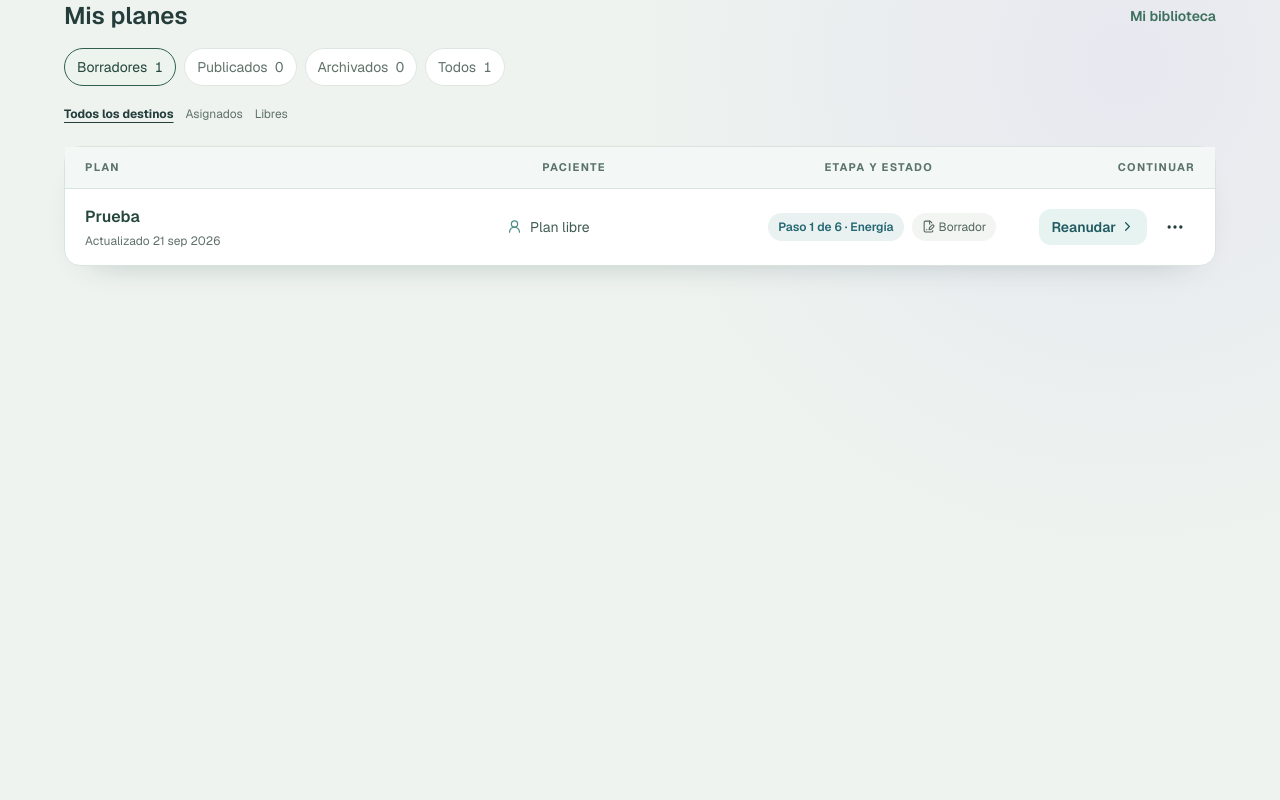
Test case: plan organization › keeps card when server rejects a newly published draft
Click the heading named "Acciones de Prueba".
click(1175, 226)  # box [1165, 216, 1185, 236]
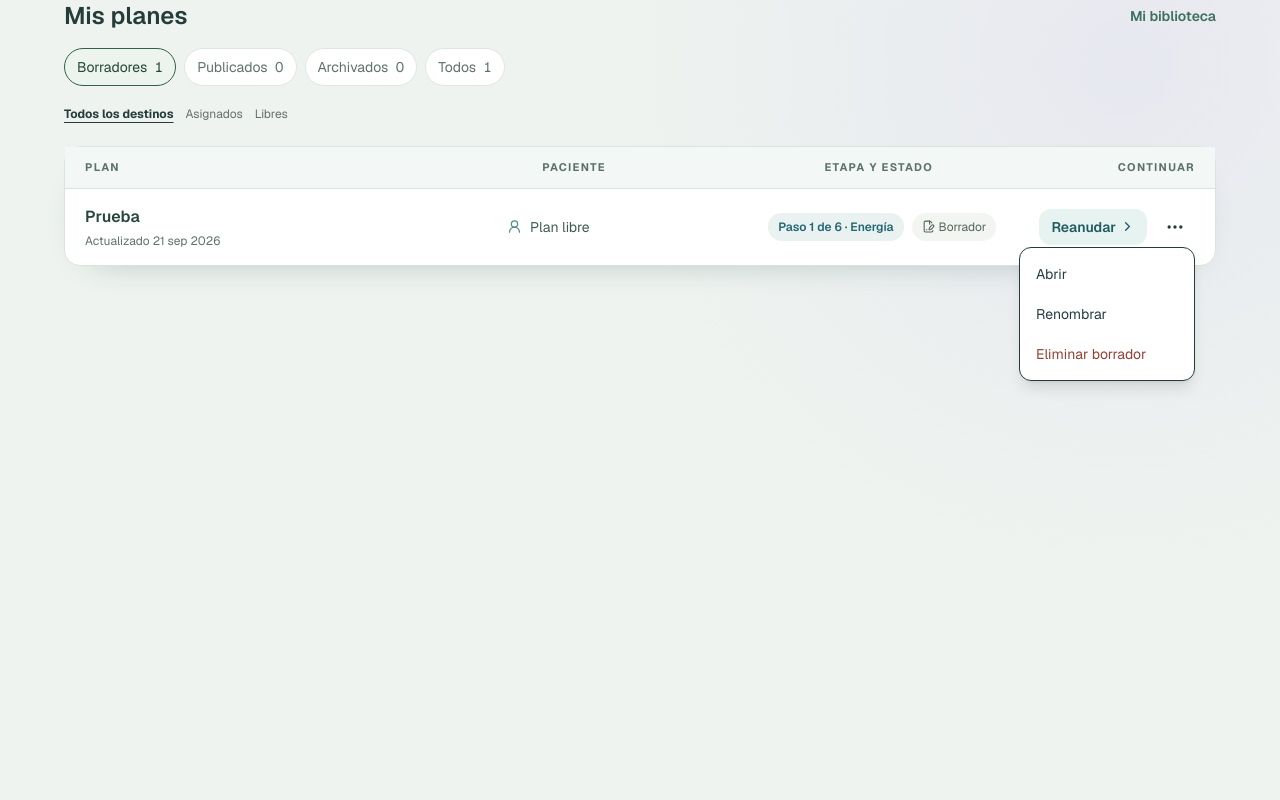
Click the button "Eliminar borrador".
click(1107, 354)  # box [1028, 336, 1186, 372]
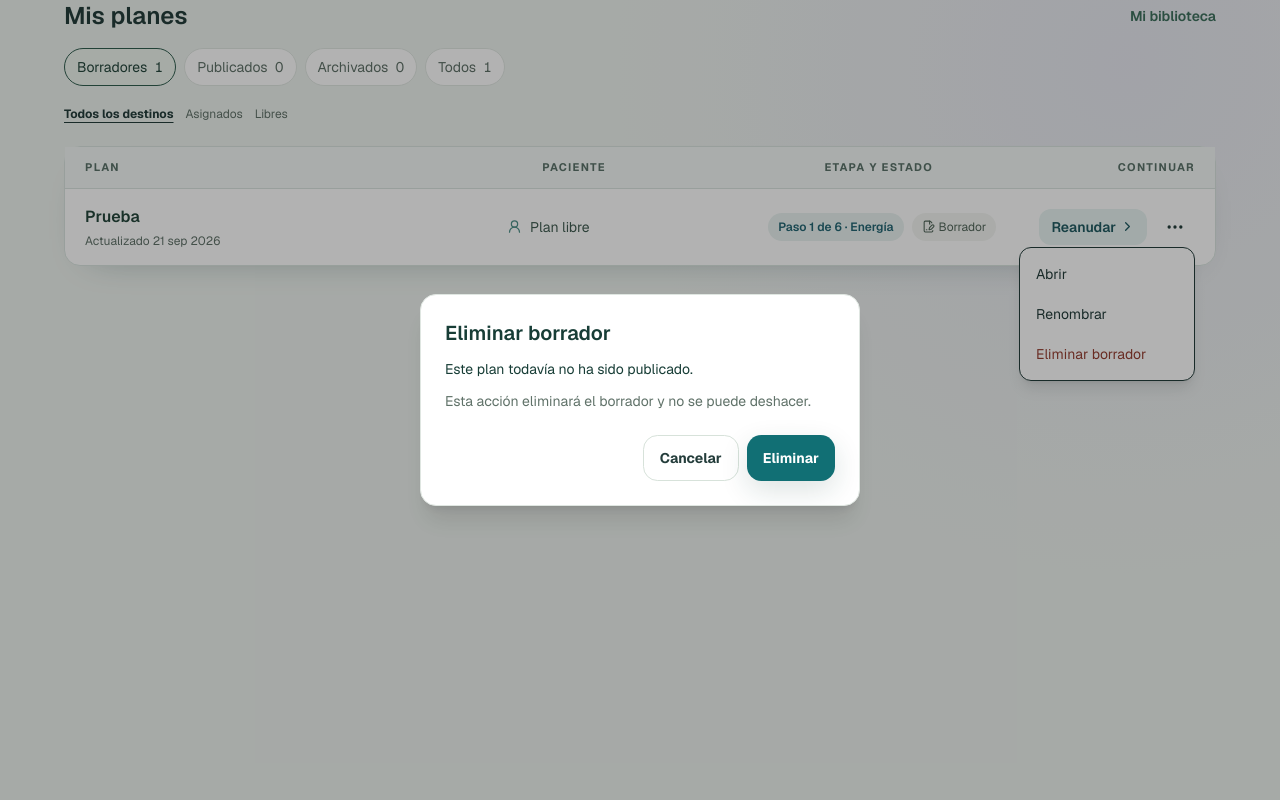
Click the button "Eliminar".
click(791, 458)  # box [747, 435, 835, 481]
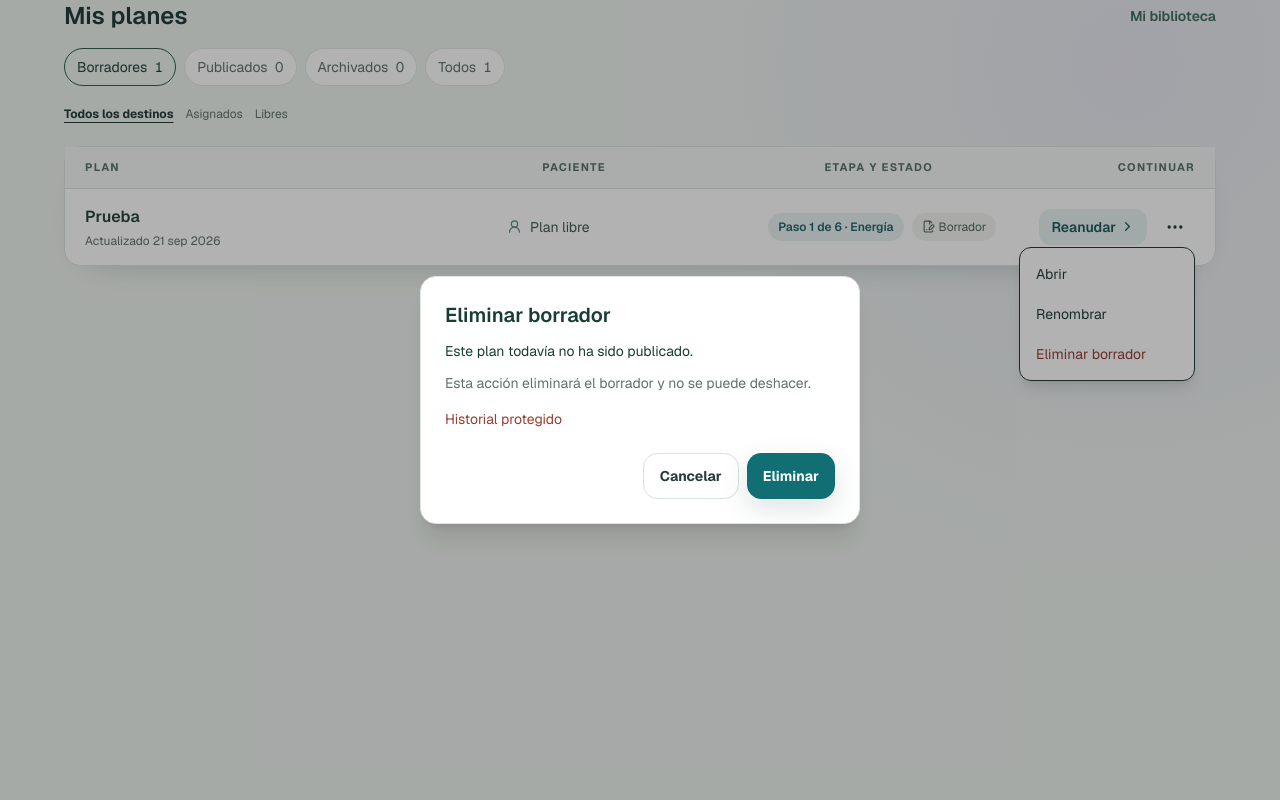
Expected: the link "Prueba" is shown, [85, 206, 140, 226]
Result: the message reads "Historial protegido" at [445, 410, 562, 428]
